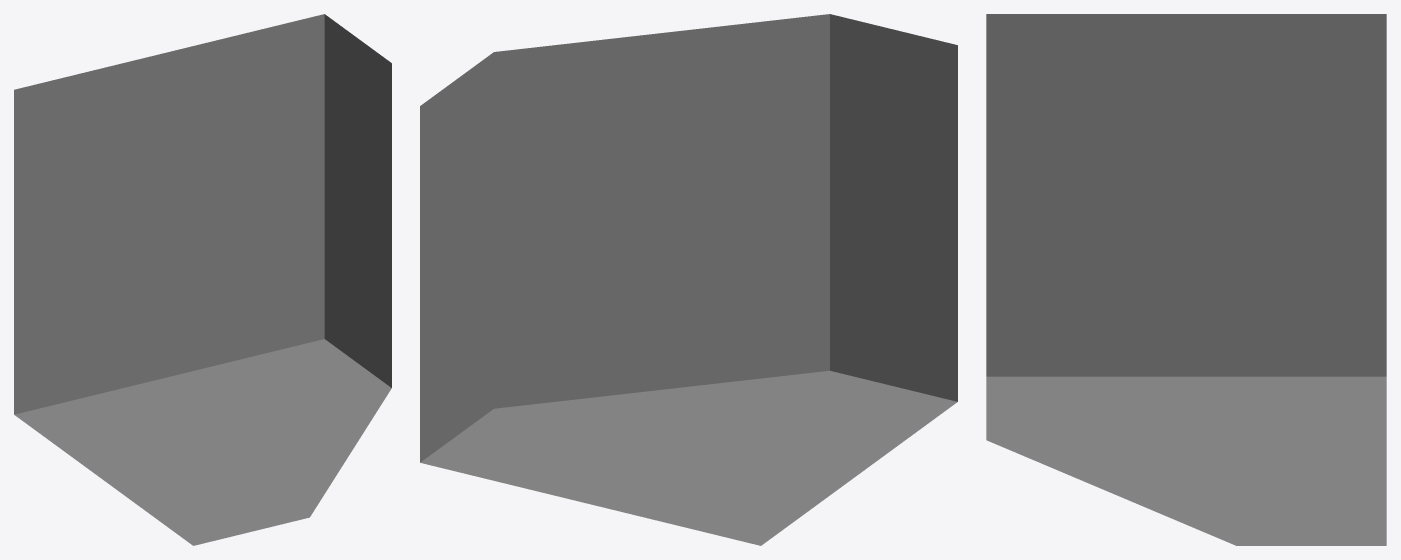
File: r3c8_border_grey.gltf
The picture shows the model from 3 angles, left to right: view 1: azimuth 30°, elevation 25°; view 2: azimuth 150°, elevation 25°; view 3: azimuth 270°, elevation 25°; orthographic projection. The views are drawn at different scales.
Parts seen in each view (by area): view 1: r3c8_border_grey; view 2: r3c8_border_grey; view 3: r3c8_border_grey.
Part boxes in pixels (left/top/right/bottom): r3c8_border_grey: left=14, top=14, right=391, bottom=545; r3c8_border_grey: left=420, top=14, right=957, bottom=545; r3c8_border_grey: left=986, top=14, right=1386, bottom=545.
Size of the model in its own units: 2.1 by 2.1 by 2.1.
Materials: 1 (1 with a texture image).
